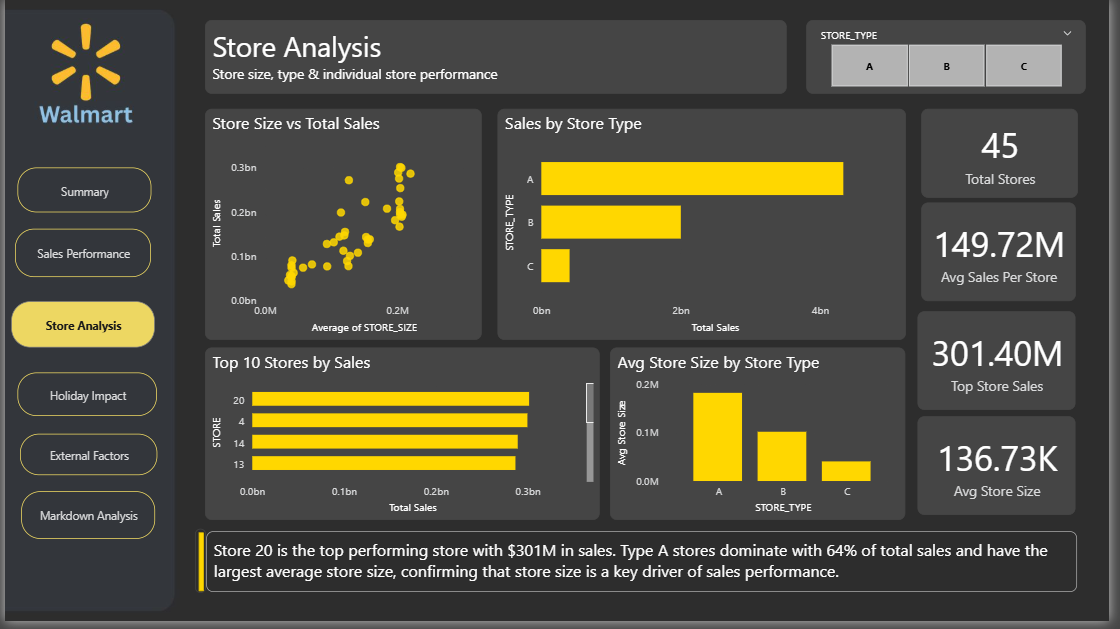

The page's visual inventory and layout, read from the dashboard file:
{"tool":"powerbi","page":{"name":"3.Store Anlysis","canvas":[1280,720],"ordinal":2},"visuals":[{"type":"card","fields":{"Values":["WALMART_CLEAN.Total Stores"]},"box":[1062,126.8,181.7,102.8],"z":0},{"type":"card","fields":{"Values":["WALMART_CLEAN.Avg Sales Per Store"]},"box":[1062,235.2,178.9,114.1],"z":1000},{"type":"card","fields":{"Values":["WALMART_CLEAN.Top Store Sales"]},"box":[1057.7,360.6,183.1,114.1],"z":2000},{"type":"card","fields":{"Values":["WALMART_CLEAN.Avg Store Size"]},"box":[1057.7,483.1,183.1,114.1],"z":3000},{"type":"scatterChart","title":"Store Size vs Total Sales","fields":{"X":["Avg(WALMART_CLEAN.STORE_SIZE)"],"Y":["WALMART_CLEAN.Total Sales"],"Category":["WALMART_CLEAN.STORE"]},"box":[232.4,126.8,321.1,267.6],"z":4000},{"type":"clusteredBarChart","title":"Sales by Store Type","fields":{"Category":["WALMART_CLEAN.STORE_TYPE"],"Y":["WALMART_CLEAN.Total Sales"]},"box":[570.4,126.8,473.2,267.6],"z":5000},{"type":"clusteredColumnChart","title":"Avg Store Size by Store Type","fields":{"Category":["WALMART_CLEAN.STORE_TYPE"],"Y":["WALMART_CLEAN.Avg Store Size"]},"box":[701.4,402.8,342.3,200],"z":6000},{"type":"slicer","fields":{"Values":["WALMART_CLEAN.STORE_TYPE"]},"box":[929.6,22.5,323.9,85.9],"z":7000},{"type":"clusteredBarChart","title":"Top 10 Stores by Sales ","fields":{"Category":["WALMART_CLEAN.STORE"],"Y":["WALMART_CLEAN.Total Sales"]},"box":[232.4,402.8,457.7,200],"z":8000},{"type":"textbox","box":[232.4,22.5,674.6,85.9],"z":9000},{"type":"actionButton","title":"Overview","box":[11.3,264.8,157.7,56.3],"z":10000},{"type":"actionButton","box":[7,349.3,166.2,53.5],"z":12000},{"type":"actionButton","box":[14.1,432.4,162,50.7],"z":13000},{"type":"actionButton","box":[16.9,502.8,159.2,47.9],"z":14000},{"type":"actionButton","box":[18.3,569,154.9,54.9],"z":15000},{"type":"actionButton","box":[14.1,194.4,154.9,52.1],"z":16000},{"type":"textbox","box":[233.8,615.5,1009.9,70.4],"z":18000},{"type":"shape","box":[219.7,612.7,12.7,74.6],"z":19000}]}

Visuals, with their boxes in screenshot pixels (x1, y1, x2, y2), scaled from the page's 1280x720 canvas onto the 1120x629 screenshot:
card - WALMART_CLEAN.Total Stores: 929, 111, 1088, 201
card - WALMART_CLEAN.Avg Sales Per Store: 929, 205, 1086, 305
card - WALMART_CLEAN.Top Store Sales: 925, 315, 1086, 415
card - WALMART_CLEAN.Avg Store Size: 925, 422, 1086, 522
"Store Size vs Total Sales" scatterChart: 203, 111, 484, 345
"Sales by Store Type" clusteredBarChart: 499, 111, 913, 345
"Avg Store Size by Store Type" clusteredColumnChart: 614, 352, 913, 527
slicer - WALMART_CLEAN.STORE_TYPE: 813, 20, 1097, 95
"Top 10 Stores by Sales " clusteredBarChart: 203, 352, 604, 527
textbox: 203, 20, 794, 95
"Overview" actionButton: 10, 231, 148, 281
actionButton: 6, 305, 152, 352
actionButton: 12, 378, 154, 422
actionButton: 15, 439, 154, 481
actionButton: 16, 497, 152, 545
actionButton: 12, 170, 148, 215
textbox: 205, 538, 1088, 599
shape: 192, 535, 203, 600
